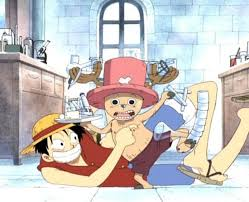chopper: (68, 56, 181, 122)
luffy: (18, 113, 93, 166)
